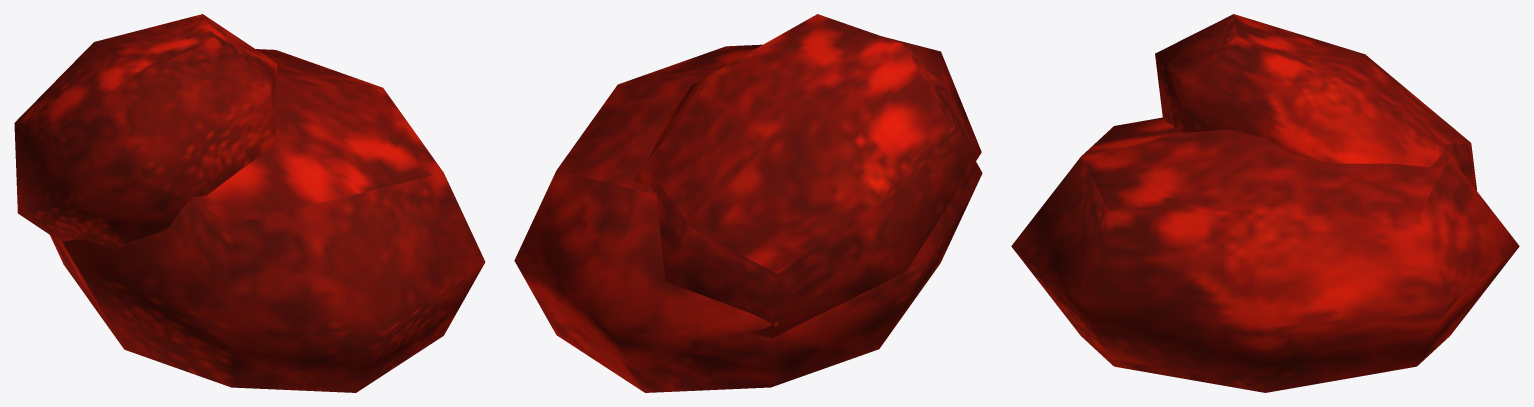
Rendered from Chunk.glb.
3 renders of one model, left to right at view 1: azimuth 30°, elevation 25°; view 2: azimuth 150°, elevation 25°; view 3: azimuth 270°, elevation 25°, orthographic. The views are drawn at different scales.
Parts seen in each view (by area): view 1: Chunk; view 2: Chunk; view 3: Chunk.
Part boxes in pixels (x1=…): Chunk: x1=14, y1=14, x2=485, y2=392; Chunk: x1=514, y1=14, x2=982, y2=392; Chunk: x1=1011, y1=14, x2=1519, y2=392.
Bounding box in the file's own units: 0.2227 × 0.1902 × 0.286.
1 material, 1 textured.
